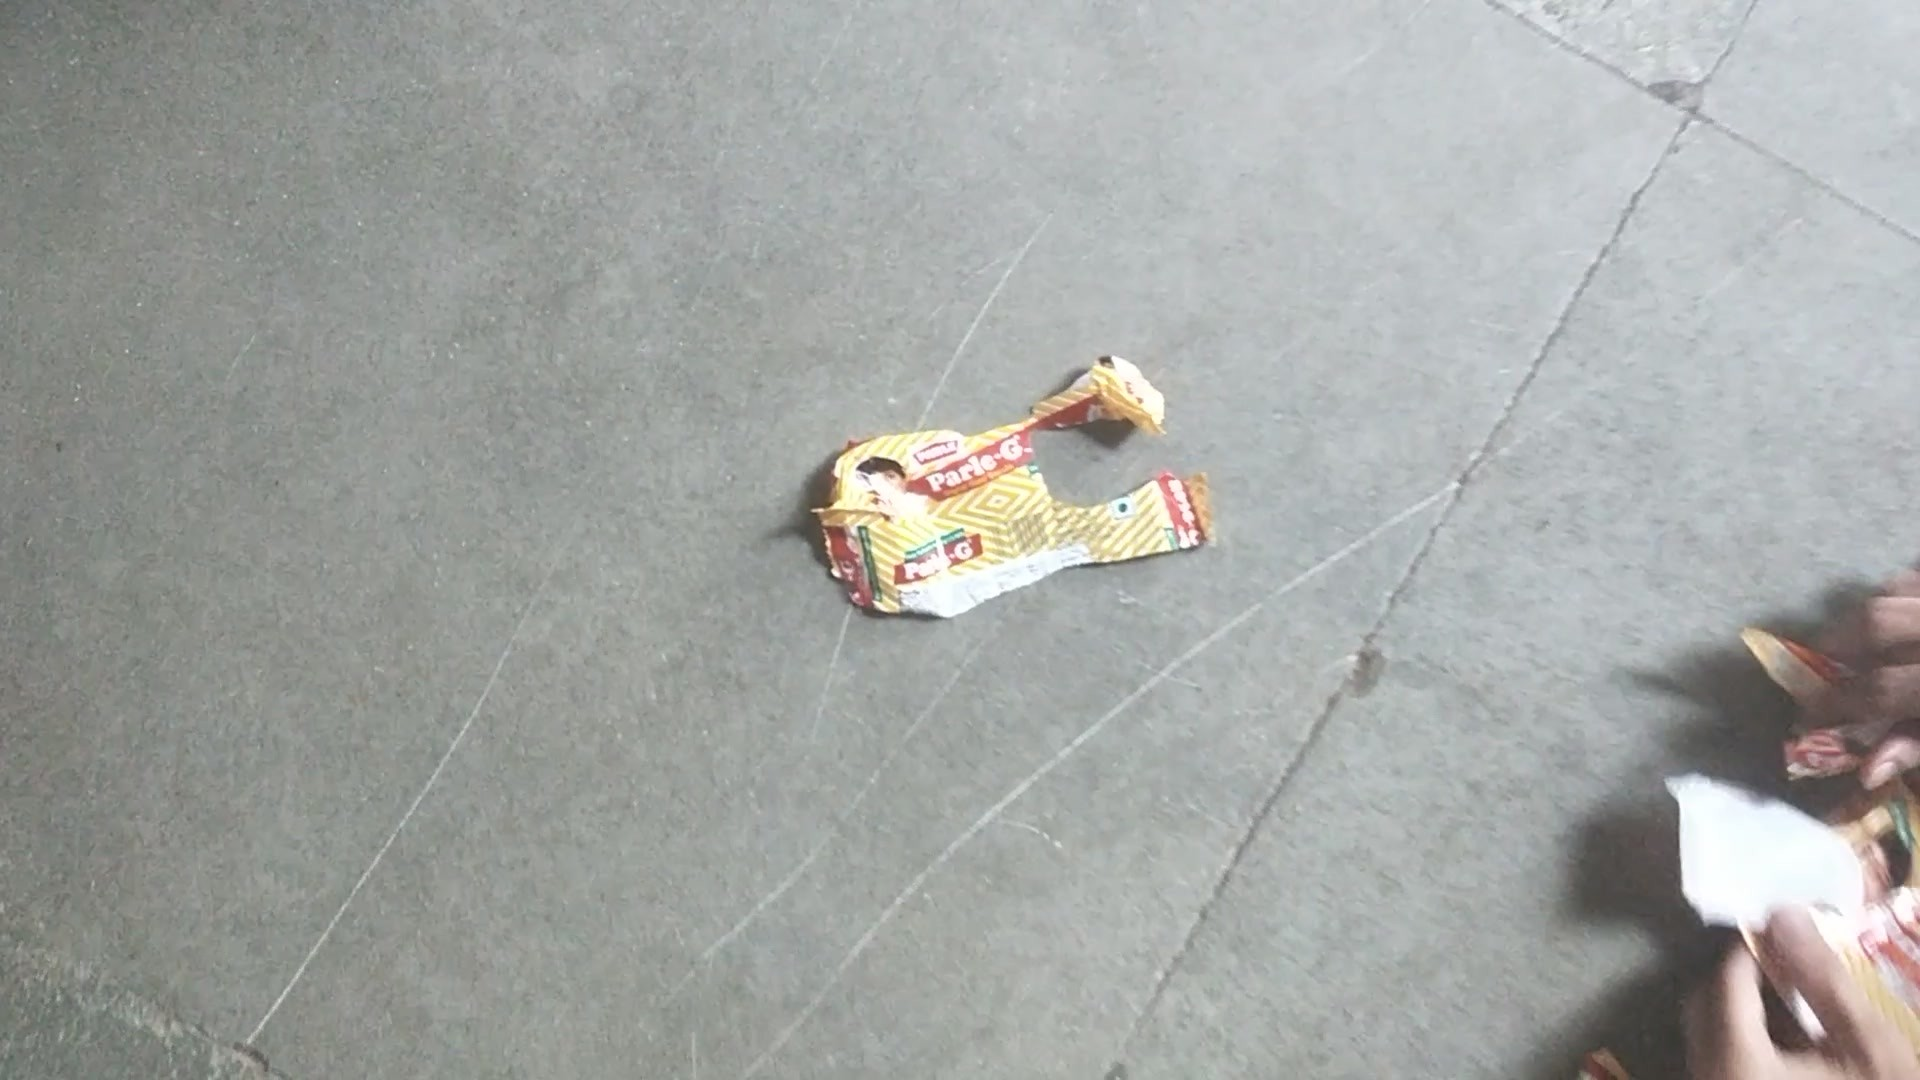parle-g-b: (843, 442, 1029, 585)
